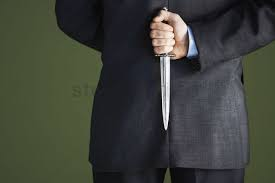knife: (150, 3, 175, 135)
